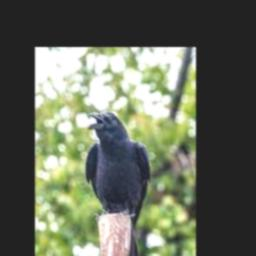Crow: (85, 111, 151, 256)
